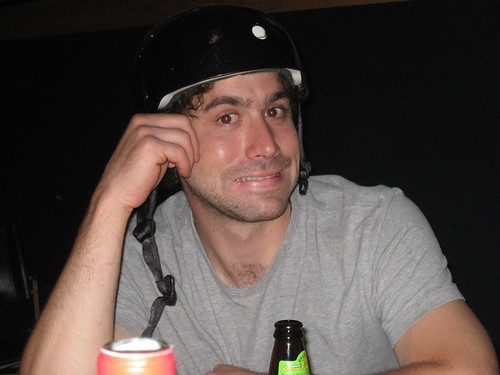helmet: (122, 1, 314, 83)
